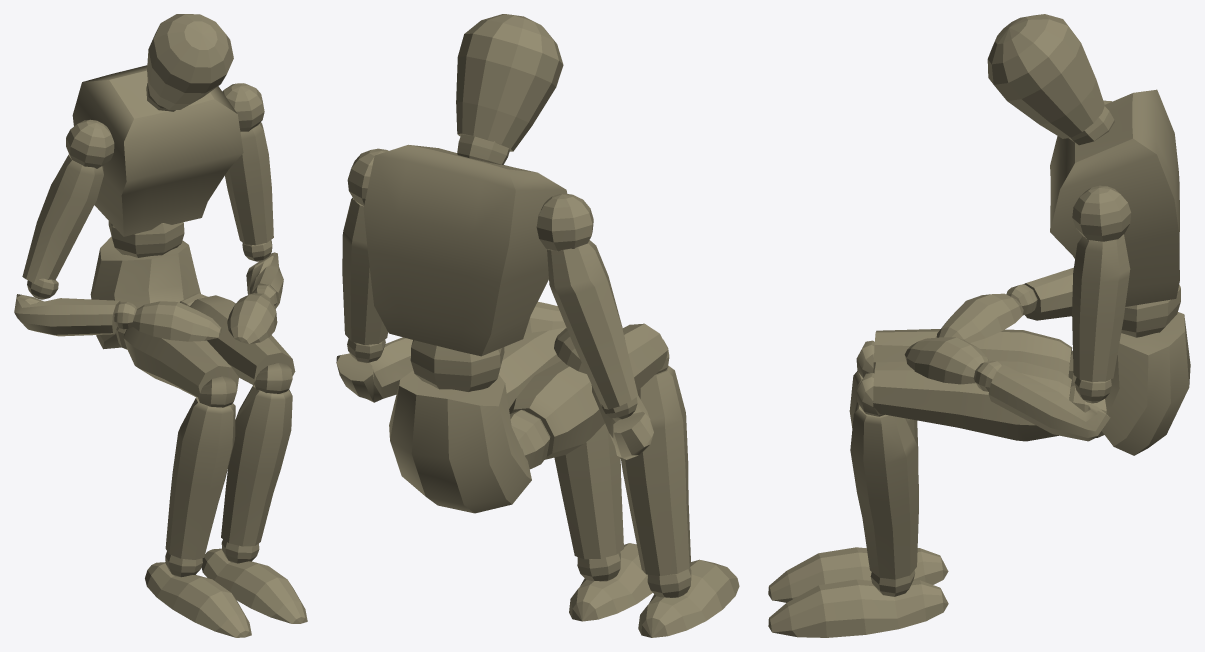
File: Mannequin_Pose_2.fbx
The picture shows the model from 3 angles, left to right: view 1: azimuth 30°, elevation 25°; view 2: azimuth 150°, elevation 25°; view 3: azimuth 270°, elevation 25°; orthographic projection. The views are drawn at different scales.
Parts seen in each view (by area): view 1: Mannequin_Pose_2; view 2: Mannequin_Pose_2; view 3: Mannequin_Pose_2.
Boxes of the visible parts, x1,y1,x2,y2 form: Mannequin_Pose_2: (14,14,307,637); Mannequin_Pose_2: (336,14,739,637); Mannequin_Pose_2: (768,14,1190,637).
Bounding box in the file's own units: 4.33 × 8.35 × 5.23.
